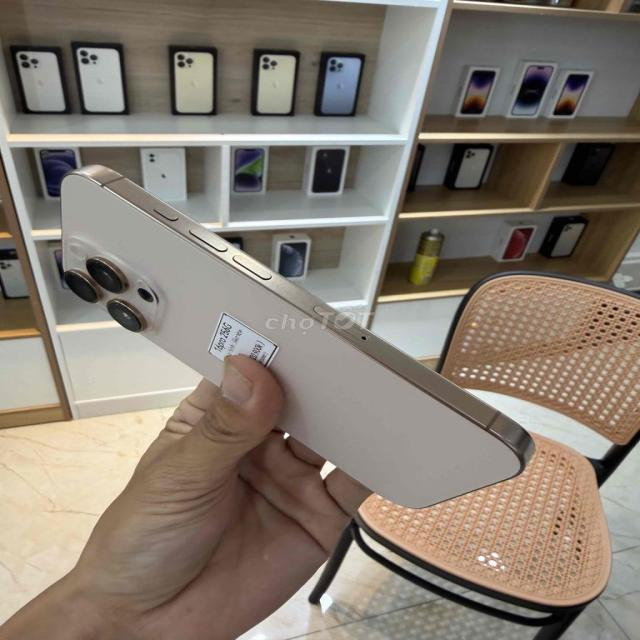gen_16: (44, 160, 543, 516)
